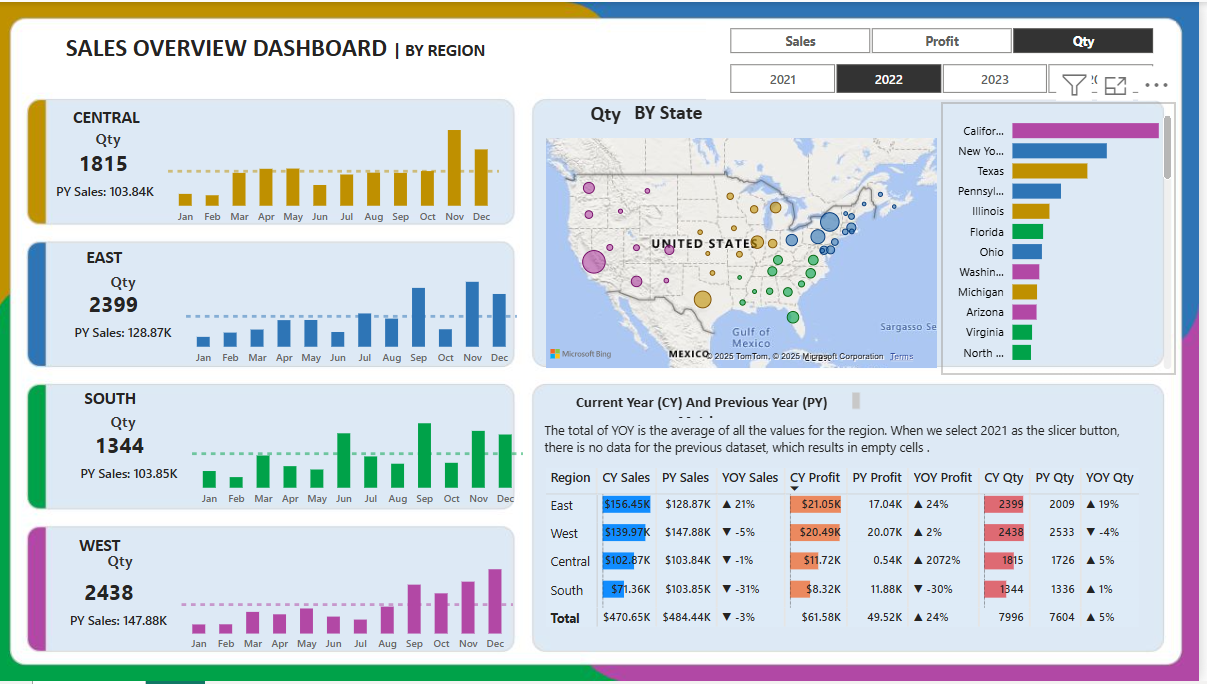

What the dashboard file says about the page in this screenshot:
{"tool":"powerbi","page":{"name":"Page 1","canvas":[1280,720],"ordinal":0},"visuals":[{"type":"slicer","fields":{"Values":["Select Metric.Select Metric"]},"box":[757.5,20.3,498.2,38.5],"z":0},{"type":"textbox","box":[64.6,253.4,107.3,36.5],"z":0,"group":"g1"},{"type":"textbox","box":[71.5,402.8,107.3,36.5],"z":0,"group":"g2"},{"type":"textbox","box":[61.3,558.2,107.3,36.5],"z":0,"group":"g3"},{"type":"card","fields":{"Values":["Sales Data.Total Qty"]},"box":[54.7,139.7,127.6,62.8],"z":1000},{"type":"card","fields":{"Values":["Sales Data.PY KPI Sales"]},"box":[56.5,338.5,162,30.4],"z":1000,"group":"g1"},{"type":"card","fields":{"Values":["Sales Data.PY KPI Sales"]},"box":[63.4,487.9,162,30.4],"z":1000,"group":"g2"},{"type":"card","fields":{"Values":["Sales Data.PY KPI Sales"]},"box":[53.2,643.3,162,30.4],"z":1000,"group":"g3"},{"type":"textbox","box":[4.1,104.3,177.9,34.8],"z":2000},{"type":"clusteredColumnChart","fields":{"Y":["Sales Data.Total Qty"],"Category":["Calendar Table.Month"]},"box":[200,254.4,361.9,139],"z":2000,"group":"g1"},{"type":"clusteredColumnChart","fields":{"Y":["Sales Data.Total Qty"],"Category":["Calendar Table.Month"]},"box":[206.9,403.8,361.9,139],"z":2000,"group":"g2"},{"type":"clusteredColumnChart","fields":{"Y":["Sales Data.Total Qty"],"Category":["Calendar Table.Month"]},"box":[196,564.6,361.9,132.9],"z":2000,"group":"g3"},{"type":"slicer","fields":{"Values":["Calendar Table.Year"]},"box":[757.5,58.7,498.2,44.6],"z":3000},{"type":"card","fields":{"Values":["Sales Data.Total Qty"]},"box":[63.9,290.1,126.8,63.4],"z":3000,"group":"g1"},{"type":"card","fields":{"Values":["Sales Data.Total Qty"]},"box":[70.8,439.5,126.8,63.4],"z":3000,"group":"g2"},{"type":"card","fields":{"Values":["Sales Data.Total Qty"]},"box":[60.6,594.9,126.8,63.4],"z":3000,"group":"g3"},{"type":"card","fields":{"Values":["Sales Data.Dynamic Title"]},"box":[46.6,121.5,153.9,50.6],"z":4000},{"type":"card","fields":{"Values":["Sales Data.PY KPI Sales"]},"box":[38.5,188.4,162,30.4],"z":5000},{"type":"clusteredColumnChart","fields":{"Y":["Sales Data.Total Qty"],"Category":["Calendar Table.Month"]},"box":[182,104.3,361.9,139],"z":6000},{"type":"textbox","box":[71.6,26.6,458,77.7],"z":7000},{"type":"card","fields":{"Values":["Sales Data.Dynamic Title"]},"box":[62,271.9,153.9,50.6],"z":8000},{"type":"group","id":"g1","title":"Group 1","box":[56.5,253.4,505.4,140],"z":9000},{"type":"group","id":"g2","title":"Group 1","box":[63.4,402.8,505,139],"z":10000},{"type":"group","id":"g3","title":"Group 1","box":[53.2,558.2,505,139],"z":11000},{"type":"card","fields":{"Values":["Sales Data.Dynamic Title"]},"box":[61.3,419.2,153.4,51.1],"z":12000},{"type":"card","fields":{"Values":["Sales Data.Dynamic Title"]},"box":[59.3,568.4,153.4,51.1],"z":13000},{"type":"map","title":"Sales By State","fields":{"Size":["Sales Data.Total Qty"],"Series":["Sales Data.Region"],"Category":["Sales Data.State/Province"]},"box":[581.8,139,424.9,254.2],"z":14000},{"type":"barChart","fields":{"Y":["Sales Data.Total Qty"],"Category":["Sales Data.State/Province"],"Series":["Sales Data.Region"]},"box":[1006.1,106.2,248.7,287.9],"z":15000},{"type":"pivotTable","fields":{"Rows":["Sales Data.Region"],"Values":["Sales Data.CY Sales","Sales Data.PY Sales","Sales Data.YOY Sales","Sales Data.CY Profit","Sales Data.PY Profit","Sales Data.YOY Profit","Sales Data.CY Qty","Sales Data.PY Qty","Sales Data.YOY Qty"]},"box":[581.8,488.4,655.2,184.7],"z":16000},{"type":"textbox","box":[586.9,408,338.2,36.3],"z":17000},{"type":"textbox","box":[581.3,438.8,634.4,50.3],"z":18000},{"type":"card","fields":{"Values":["Sales Data.Dynamic Map Title"]},"box":[587.6,96.6,126.9,41.4],"z":18002},{"type":"textbox","box":[675.9,99.3,118.6,35.9],"z":18003}]}

Visuals, with their boxes in screenshot pixels (x1, y1, x2, y2), scaled from the page's 1280x720 canvas onto the 1207x684 screenshot:
slicer - Select Metric.Select Metric: [714,19,1184,56]
textbox: [61,241,162,275]
textbox: [67,383,169,417]
textbox: [58,530,159,565]
card - Sales Data.Total Qty: [52,133,172,192]
card - Sales Data.PY KPI Sales: [53,322,206,350]
card - Sales Data.PY KPI Sales: [60,464,213,492]
card - Sales Data.PY KPI Sales: [50,611,203,640]
textbox: [4,99,172,132]
clusteredColumnChart - Sales Data.Total Qty x Calendar Table.Month: [189,242,530,374]
clusteredColumnChart - Sales Data.Total Qty x Calendar Table.Month: [195,384,536,516]
clusteredColumnChart - Sales Data.Total Qty x Calendar Table.Month: [185,536,526,663]
slicer - Calendar Table.Year: [714,56,1184,98]
card - Sales Data.Total Qty: [60,276,180,336]
card - Sales Data.Total Qty: [67,418,186,478]
card - Sales Data.Total Qty: [57,565,177,625]
card - Sales Data.Dynamic Title: [44,115,189,163]
card - Sales Data.PY KPI Sales: [36,179,189,208]
clusteredColumnChart - Sales Data.Total Qty x Calendar Table.Month: [172,99,513,231]
textbox: [68,25,499,99]
card - Sales Data.Dynamic Title: [58,258,204,306]
"Group 1" group: [53,241,530,374]
"Group 1" group: [60,383,536,515]
"Group 1" group: [50,530,526,662]
card - Sales Data.Dynamic Title: [58,398,202,447]
card - Sales Data.Dynamic Title: [56,540,201,589]
"Sales By State" map: [549,132,949,374]
barChart - Sales Data.Total Qty x Sales Data.State/Province: [949,101,1183,374]
pivotTable - Sales Data.Region x Sales Data.CY Sales: [549,464,1166,639]
textbox: [553,388,872,422]
textbox: [548,417,1146,465]
card - Sales Data.Dynamic Map Title: [554,92,674,131]
textbox: [637,94,749,128]
